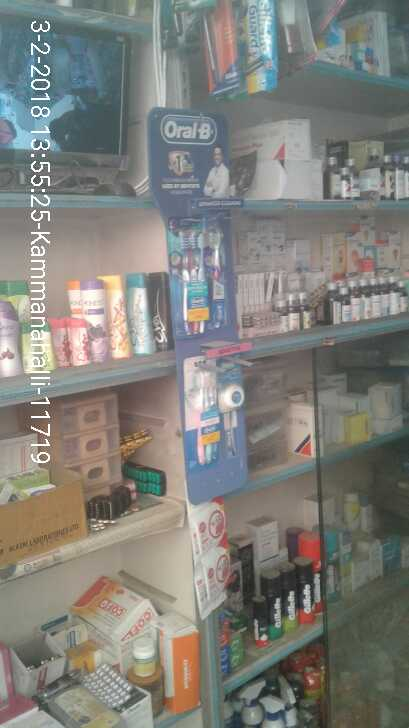oralb: (172, 212, 228, 334), (193, 355, 246, 465)
